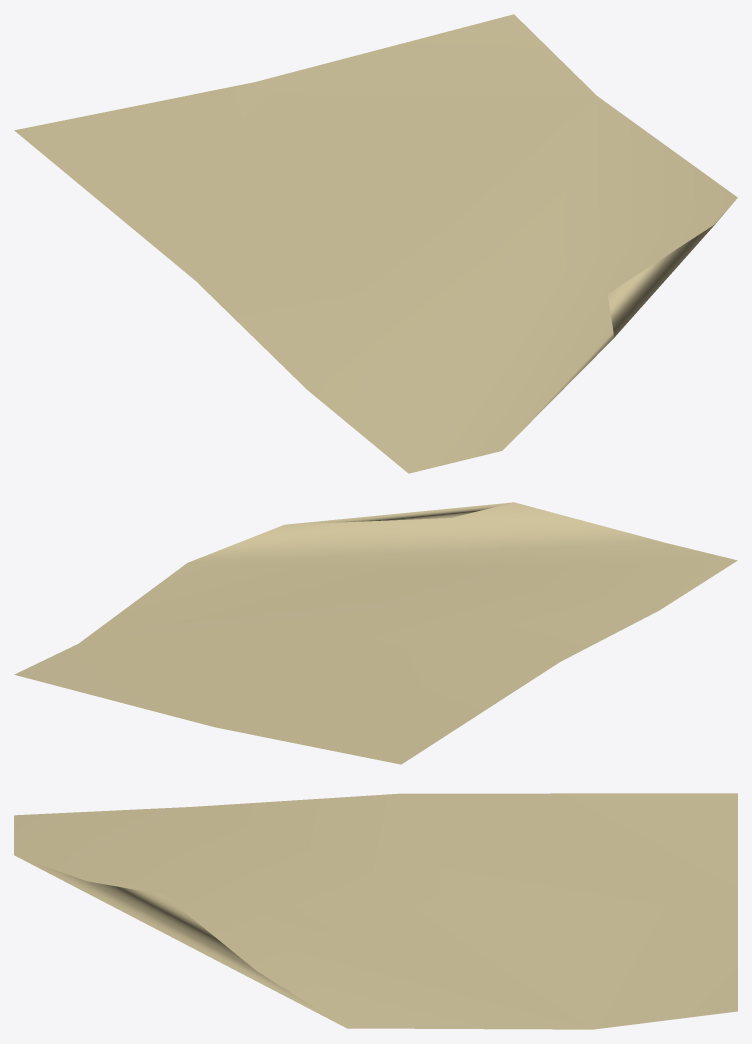
Rendered from SM_Paper_04.fbx.
3 renders of one model, top to bottom at view 1: azimuth 30°, elevation 25°; view 2: azimuth 150°, elevation 25°; view 3: azimuth 270°, elevation 25°, orthographic. The views are drawn at different scales.
Visible parts, largest first — view 1: SM_Paper_04; view 2: SM_Paper_04; view 3: SM_Paper_04.
Boxes of the visible parts, left/top/right/bottom form: SM_Paper_04: left=14, top=14, right=737, bottom=473; SM_Paper_04: left=14, top=502, right=737, bottom=764; SM_Paper_04: left=14, top=793, right=737, bottom=1029.
Bounding box in the file's own units: 21 × 1.85 × 29.
